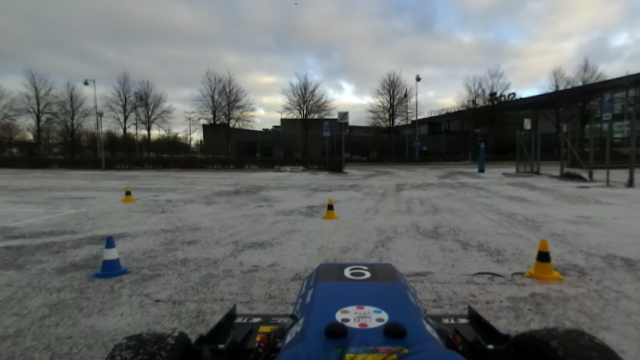blue: (91, 232, 131, 283)
yellow: (523, 237, 564, 287), (322, 196, 340, 222)
